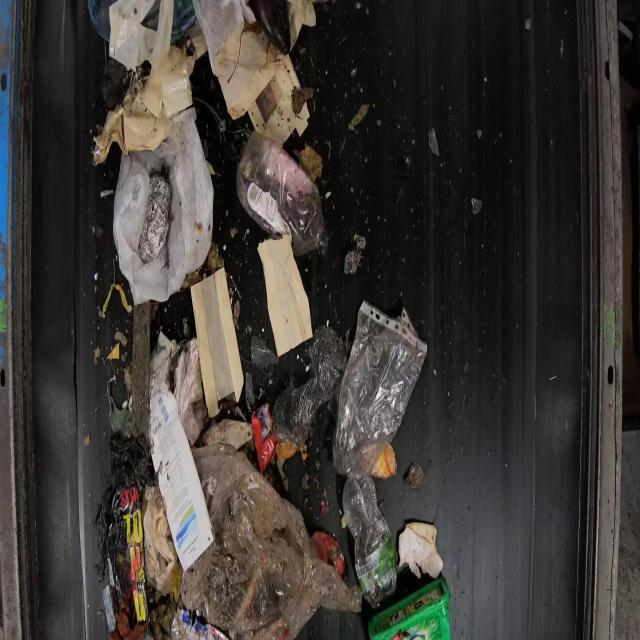cardboard: (256, 232, 313, 357)
cups: (234, 131, 328, 256)
other-trash: (88, 0, 451, 638)
trashbin: (366, 573, 452, 639)
